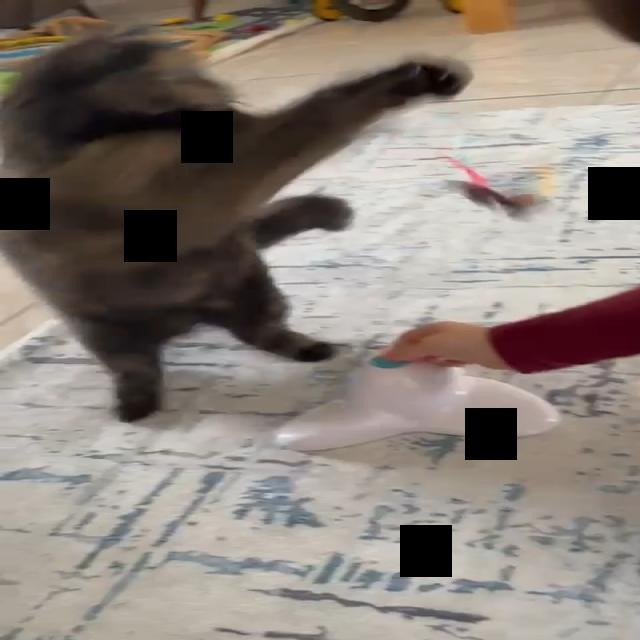authorized: (0, 31, 473, 422)
